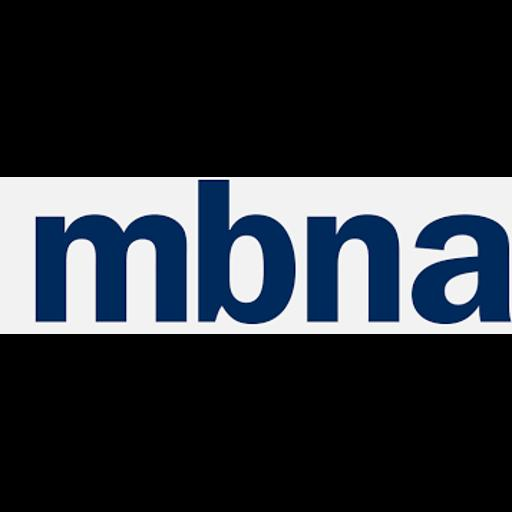MBNA Corportation: (0, 177, 512, 334)
